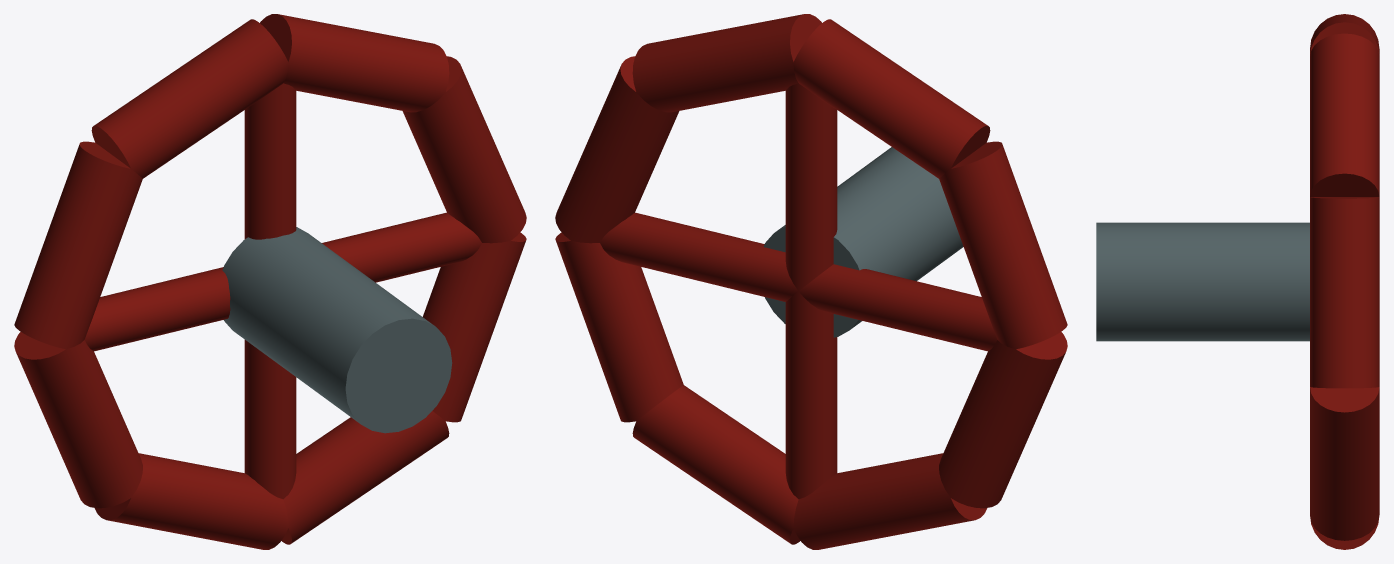
File: Valve.obj
3 views of the same model, side by side, from view 1: azimuth 30°, elevation 25°; view 2: azimuth 150°, elevation 25°; view 3: azimuth 270°, elevation 25° (orthographic). The views are drawn at different scales.
Parts seen in each view (by area): view 1: Valve; view 2: Valve; view 3: Valve.
Part boxes in pixels (<box>): Valve: <box>14,14,526,549</box>; Valve: <box>555,14,1067,549</box>; Valve: <box>1096,14,1379,549</box>.
Bounding box in the file's own units: 0.5647 × 0.5647 × 0.285.
